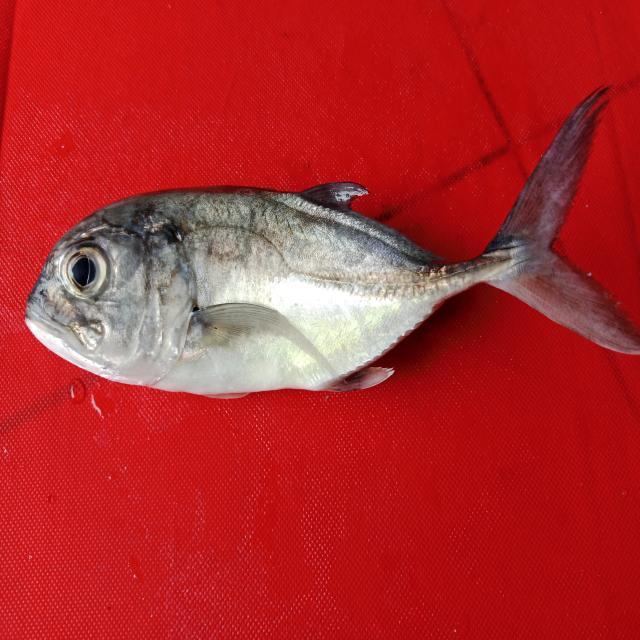ikan: (20, 69, 629, 414)
